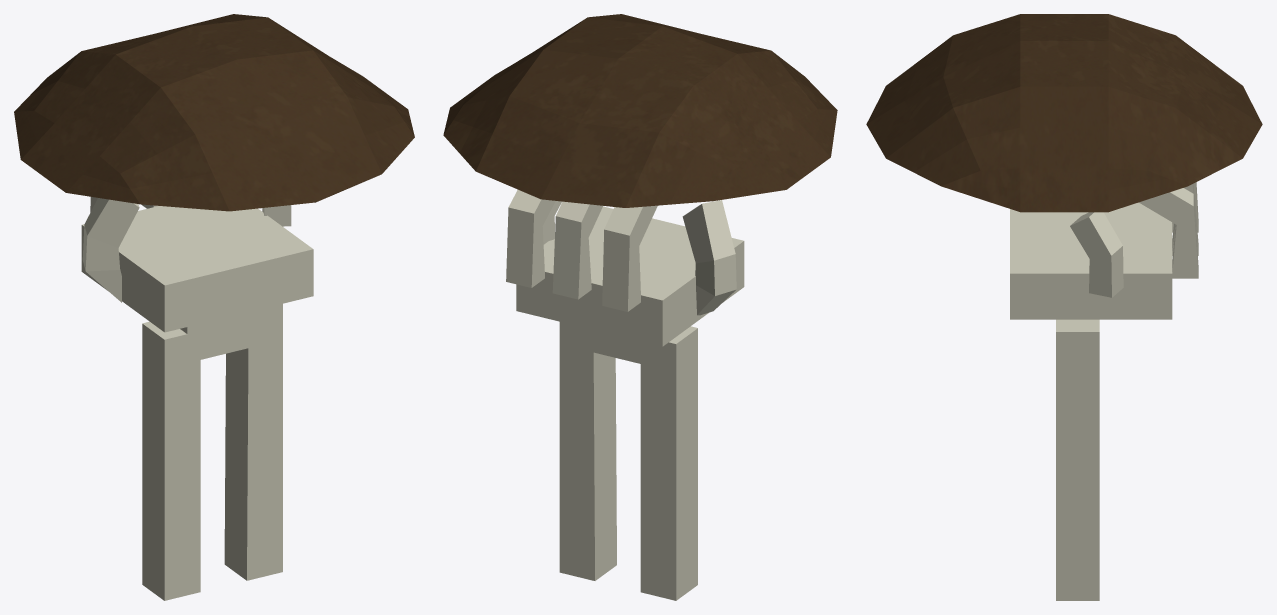
The model's file is AN.ManoMorte.fbx.
3 views of the same model, side by side, from view 1: azimuth 30°, elevation 25°; view 2: azimuth 150°, elevation 25°; view 3: azimuth 270°, elevation 25° (orthographic). The views are drawn at different scales.
Parts seen in each view (by area): view 1: Terra, Cube, Cube.001, Cube.006; view 2: Terra, Cube, Cube.001, Cube.006, Cube.002, Cube.003, Cube.004; view 3: Terra, Cube.001, Cube, Cube.005, Cube.004.
Part boxes in pixels (box(x1,y1,x2,y2)): Terra: box(14, 14, 414, 211); Cube: box(142, 303, 282, 600); Cube.001: box(81, 206, 313, 332); Cube.006: box(82, 198, 139, 302); Terra: box(443, 14, 837, 207); Cube: box(559, 322, 697, 600); Cube.001: box(516, 206, 744, 346); Cube.006: box(682, 200, 736, 315); Cube.002: box(602, 205, 657, 311); Cube.003: box(552, 201, 602, 299); Cube.004: box(506, 189, 555, 287); Terra: box(866, 14, 1262, 212); Cube.001: box(1010, 202, 1172, 319); Cube: box(1056, 319, 1099, 600); Cube.005: box(1070, 212, 1123, 297); Cube.004: box(1139, 188, 1198, 278).
Size of the model in its own units: 95.83 by 145 by 98.3.
